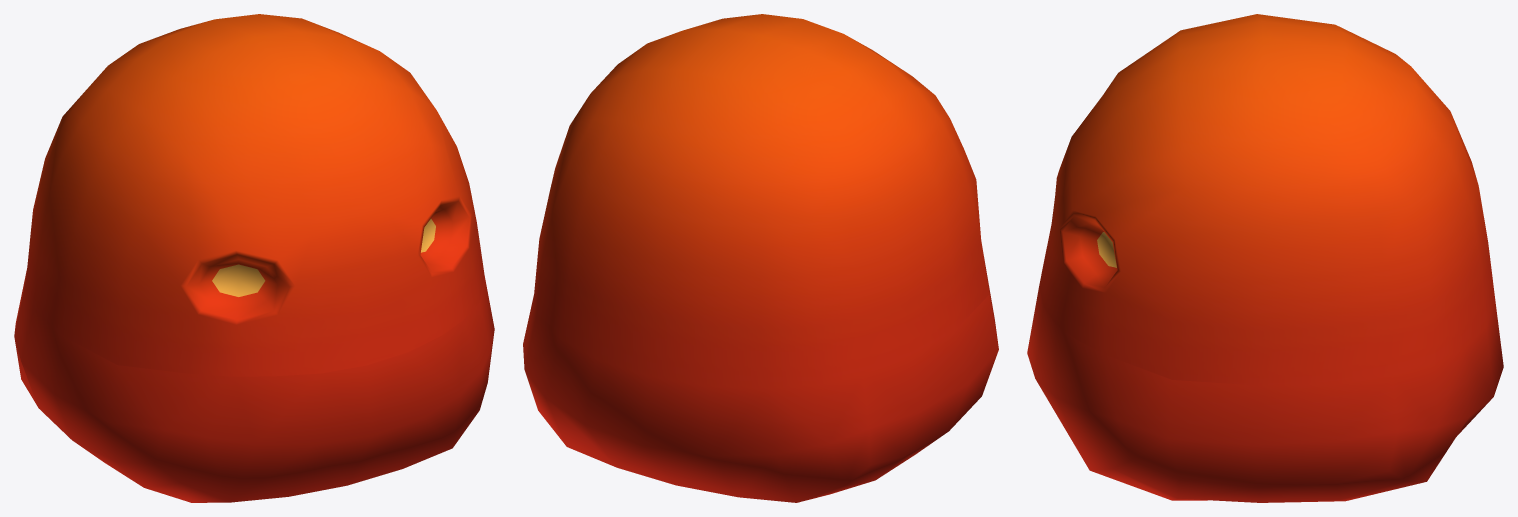
File: A_OozeDemon_Land.fbx
3 views of the same model, side by side, from view 1: azimuth 30°, elevation 25°; view 2: azimuth 150°, elevation 25°; view 3: azimuth 270°, elevation 25° (orthographic).
Visible parts, largest first — view 1: Ooze_geo; view 2: Ooze_geo; view 3: Ooze_geo.
Part boxes in pixels (bbox=[...]): Ooze_geo: bbox=[14, 14, 494, 502]; Ooze_geo: bbox=[523, 14, 998, 502]; Ooze_geo: bbox=[1027, 14, 1503, 502].
Bounding box in the file's own units: 137 × 130 × 137.
